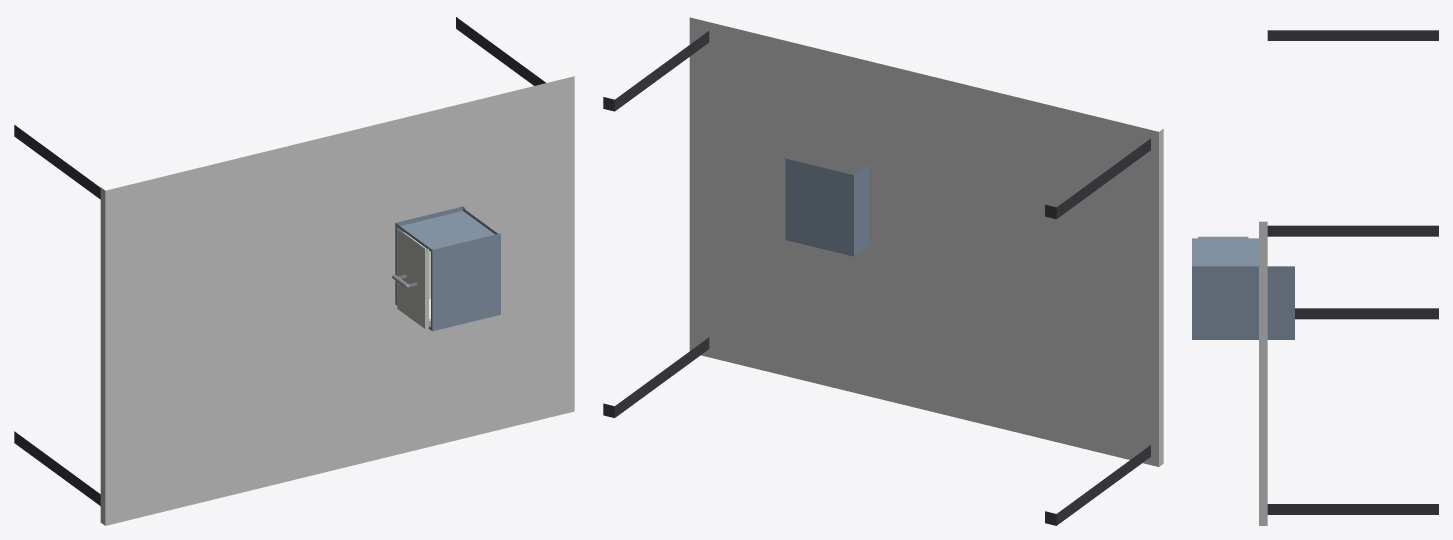
3 renders of one model, left to right at view 1: azimuth 30°, elevation 25°; view 2: azimuth 150°, elevation 25°; view 3: azimuth 270°, elevation 25°, orthographic. The views are drawn at different scales.
Visible parts, largest first — view 1: s0, s1, s2; view 2: s0, s1; view 3: s0, s1.
Part boxes in pixels (x1,y1,x2,y2): s0: (14,17,574,525); s1: (395,206,500,331); s2: (392,229,430,328); s0: (603,17,1163,525); s1: (785,158,868,256); s0: (1259,30,1438,525); s1: (1192,238,1294,339).
Bounding box in the file's own units: 2.05 × 1.4 × 1.03.
